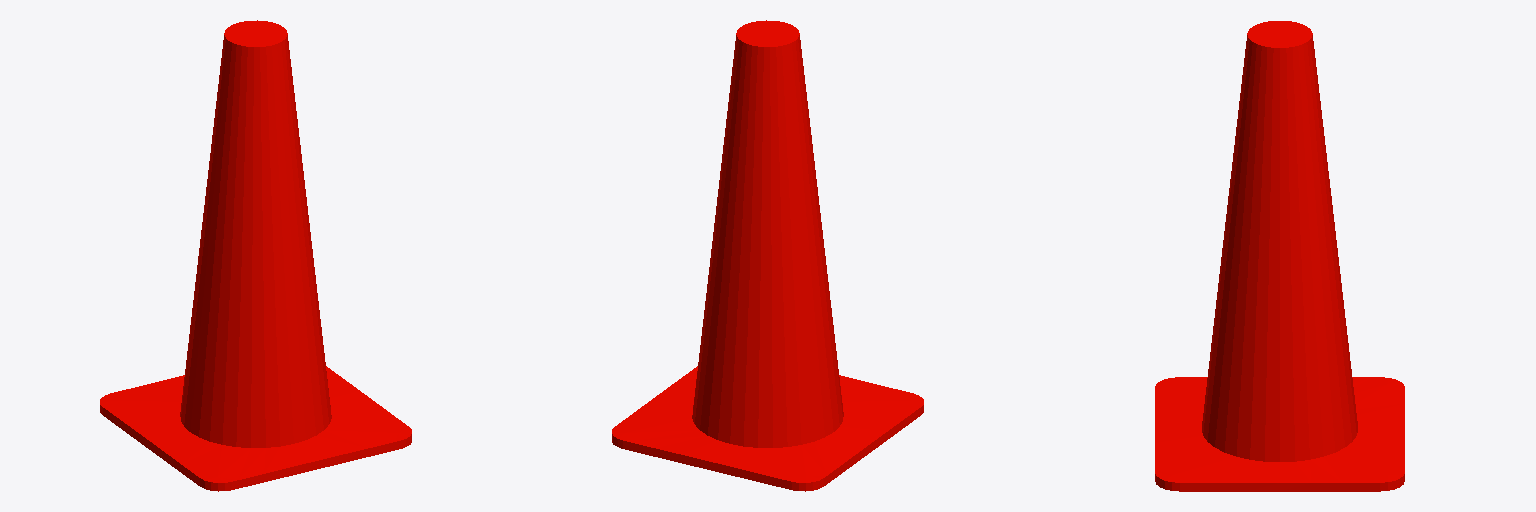
URDF robot description (taffic_cone):
<robot name="taffic_cone" version="1.0">
  <link name="base_link">
    <collision name="traffic_cone_collision">
      <origin rpy="0.00000 0.00000 0.00000" xyz="0.00000 -0.00000 0.10732"/>
      <geometry>
        <cylinder radius="0.21171" length="0.75176"/>
      </geometry>
    </collision>
    <inertial>
      <inertia ixx="0.00583" ixy="0.00000" ixz="0.00000" iyy="0.00583" iyz="0.00000" izz="0.00224"/>
      <origin rpy="0.00000 0.00000 0.00000" xyz="0.00000 -0.00000 0.10732"/>
      <mass value="0.10000"/>
    </inertial>
    <visual name="traffic_cone">
      <material name="Orange"/>
      <origin rpy="0.00000 0.00000 0.00000" xyz="0.00000 0.00000 -0.00000"/>
      <geometry>
        <mesh filename="package://robot_name_model/meshes/dae/Cylinder.dae" scale="1 1 1"/>
      </geometry>
    </visual>
  </link>
  <material name="Orange">
    <color rgba="1.00000 0.05490 0.00000 1.00000"/>
  </material>
</robot>

--- Render facts (derived) ---
3 views of the same robot in one strip: view 1: azimuth 30°, elevation 25°; view 2: azimuth 150°, elevation 25°; view 3: azimuth 270°, elevation 25° (orthographic).
Model taffic_cone with 1 links and 0 joints (none), rooted at base_link, posed all joints at 0.
Visible links, largest first — view 1: base_link; view 2: base_link; view 3: base_link.
Boxes of the visible links, bbox=[...] form: base_link: bbox=[100, 20, 411, 491]; base_link: bbox=[612, 20, 923, 491]; base_link: bbox=[1155, 21, 1404, 491].
Bounding box of the posed robot: 0.42 × 0.42 × 0.75 m (x, y, z).
1 mesh visuals loaded from 1 distinct referenced files (1 Collada DAE).
